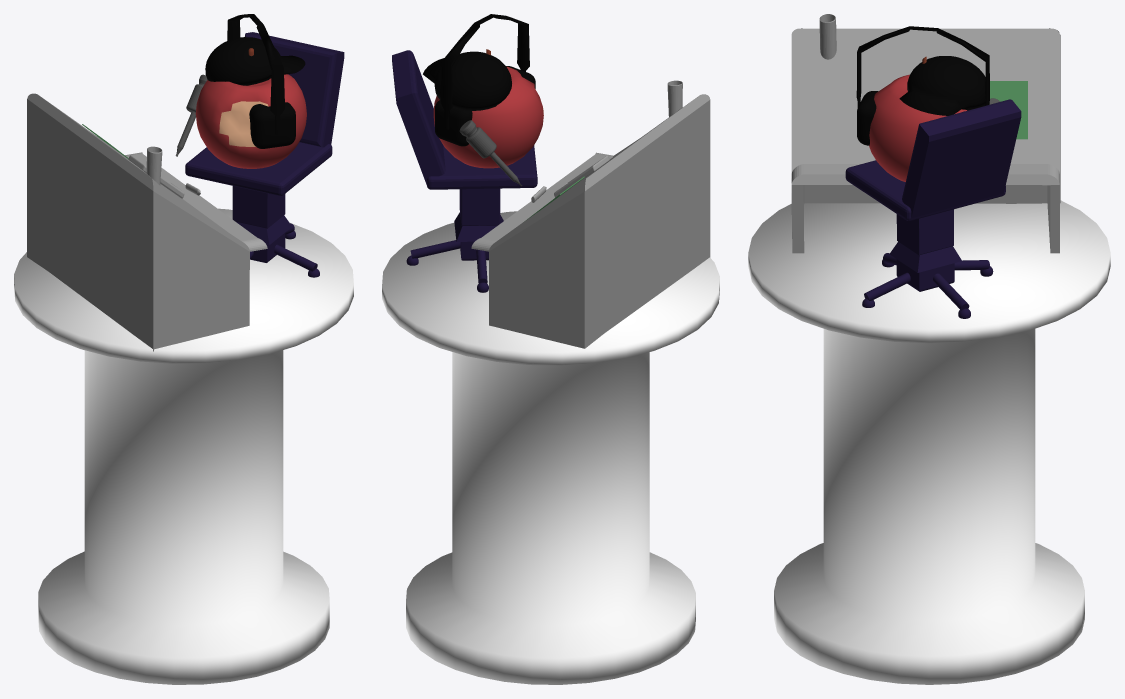
3 views of the same model, side by side, from view 1: azimuth 30°, elevation 25°; view 2: azimuth 150°, elevation 25°; view 3: azimuth 270°, elevation 25° (orthographic). The views are drawn at different scales.
Visible parts, largest first — view 1: Cylinder, Cube, Cube.006, Sphere, Cube.004, Sphere.001, Cylinder.001; view 2: Cylinder, Cube, Cube.006, Sphere, Sphere.001, Cube.004, Cylinder.001; view 3: Cylinder, Cube, Cube.006, Sphere.001, Sphere, Cube.004.
Boxes of the visible parts, x1,y1,x2,y2 form: Cylinder: [14, 208, 353, 684]; Cube: [27, 93, 267, 351]; Cube.006: [185, 32, 344, 277]; Sphere: [195, 48, 306, 168]; Cube.004: [227, 14, 295, 148]; Sphere.001: [205, 37, 305, 85]; Cylinder.001: [175, 74, 207, 156]; Cylinder: [382, 211, 719, 684]; Cube: [471, 80, 710, 348]; Cube.006: [392, 50, 537, 292]; Sphere: [433, 49, 543, 168]; Sphere.001: [423, 51, 511, 110]; Cube.004: [435, 14, 535, 146]; Cylinder.001: [459, 120, 521, 186]; Cylinder: [748, 200, 1110, 684]; Cube: [791, 14, 1060, 253]; Cube.006: [845, 99, 1021, 318]; Sphere.001: [899, 56, 985, 115]; Sphere: [869, 56, 966, 181]; Cube.004: [856, 26, 989, 145].
Size of the model in its own units: 4.01 by 7.34 by 3.85.
